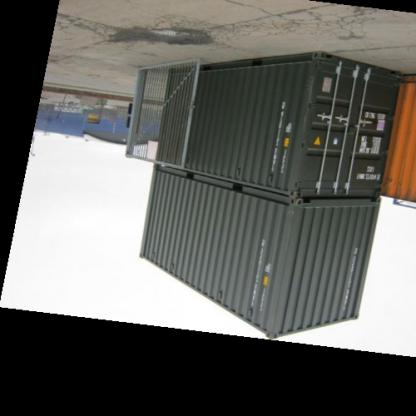Damage: (301, 68, 315, 135)
